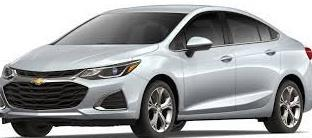Cars: (1, 6, 312, 138)
